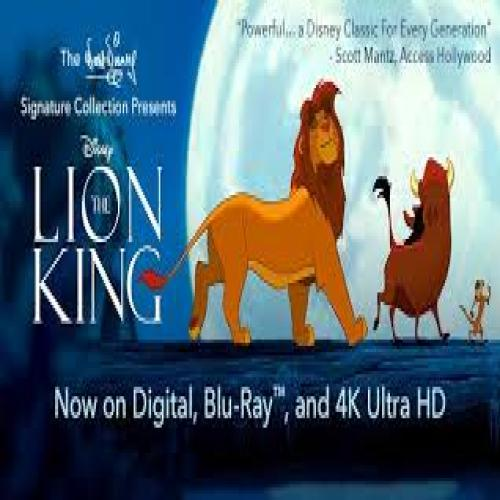lion-endangered: (154, 93, 366, 342)
